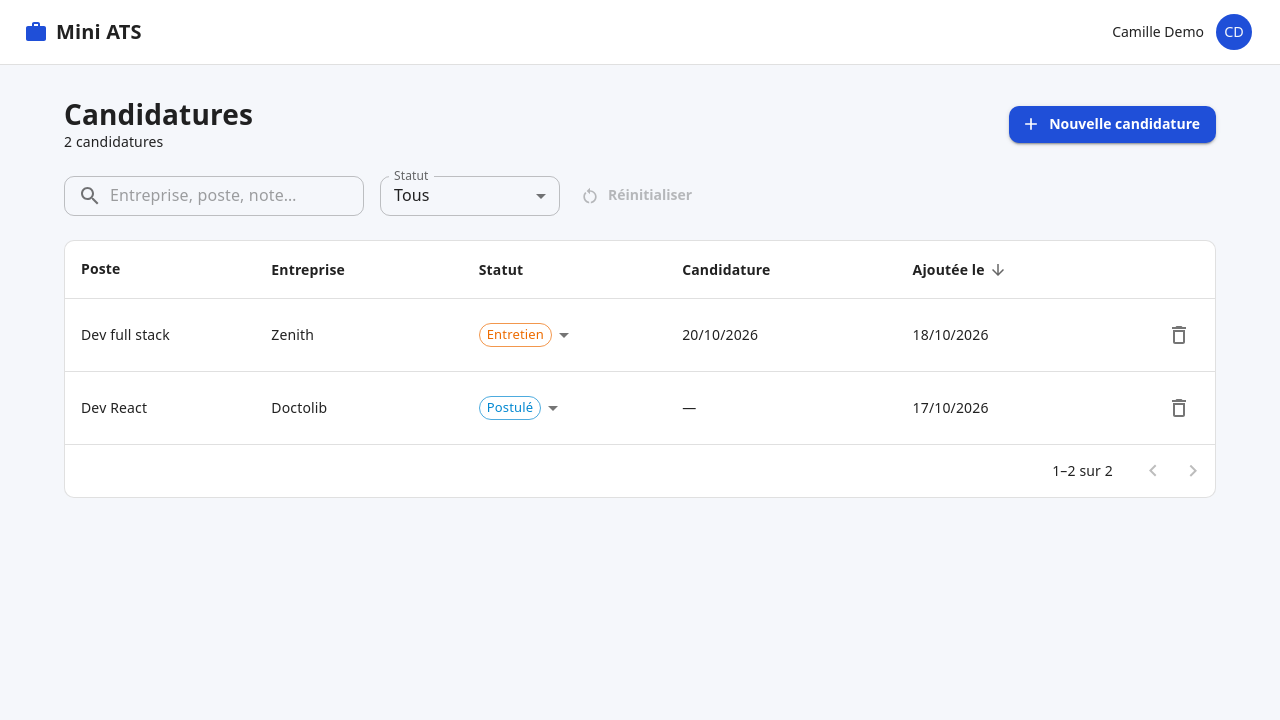
it: parcours applicatif › réinitialise recherche et filtres
Check: the button "Réinitialiser" is disabled, box [576, 177, 700, 214]
Type "Zenith" into the field named "Rechercher" at (237, 196), box [110, 176, 364, 216]
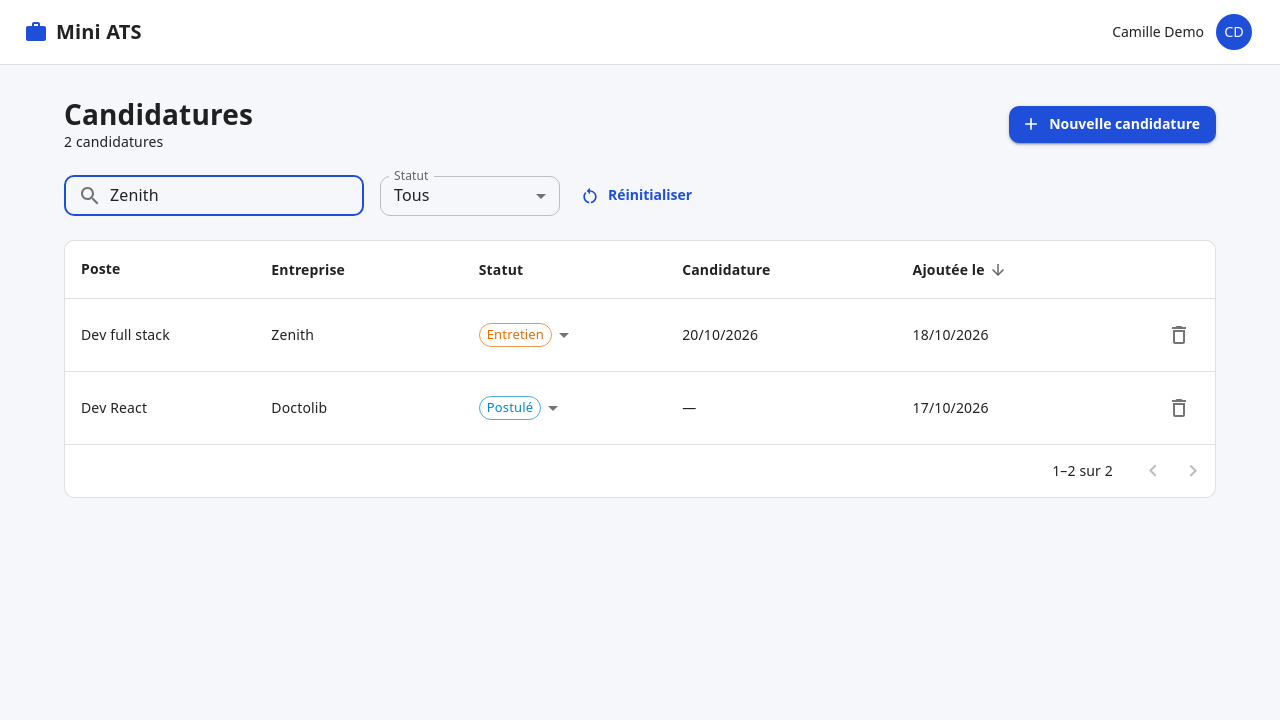
Click the dropdown named "Statut" at (412, 195), box [394, 184, 430, 206]
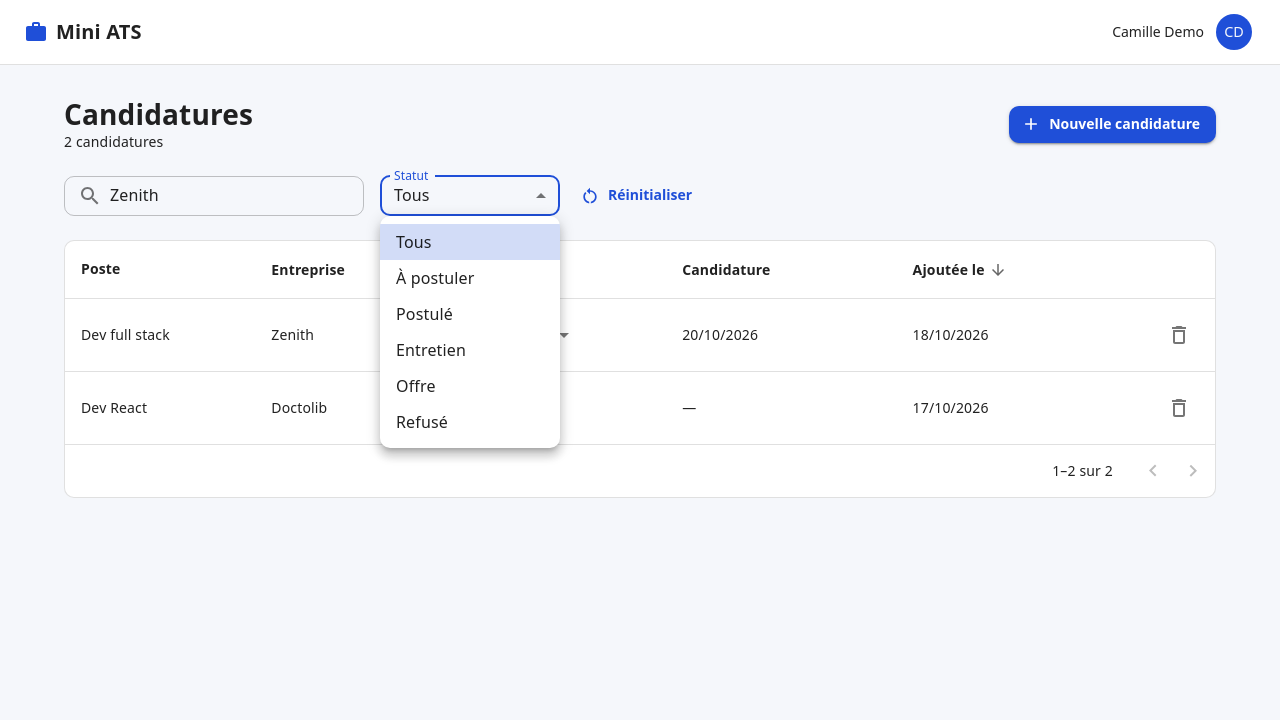
Click the option "Offre" at (416, 386), box [396, 375, 436, 397]
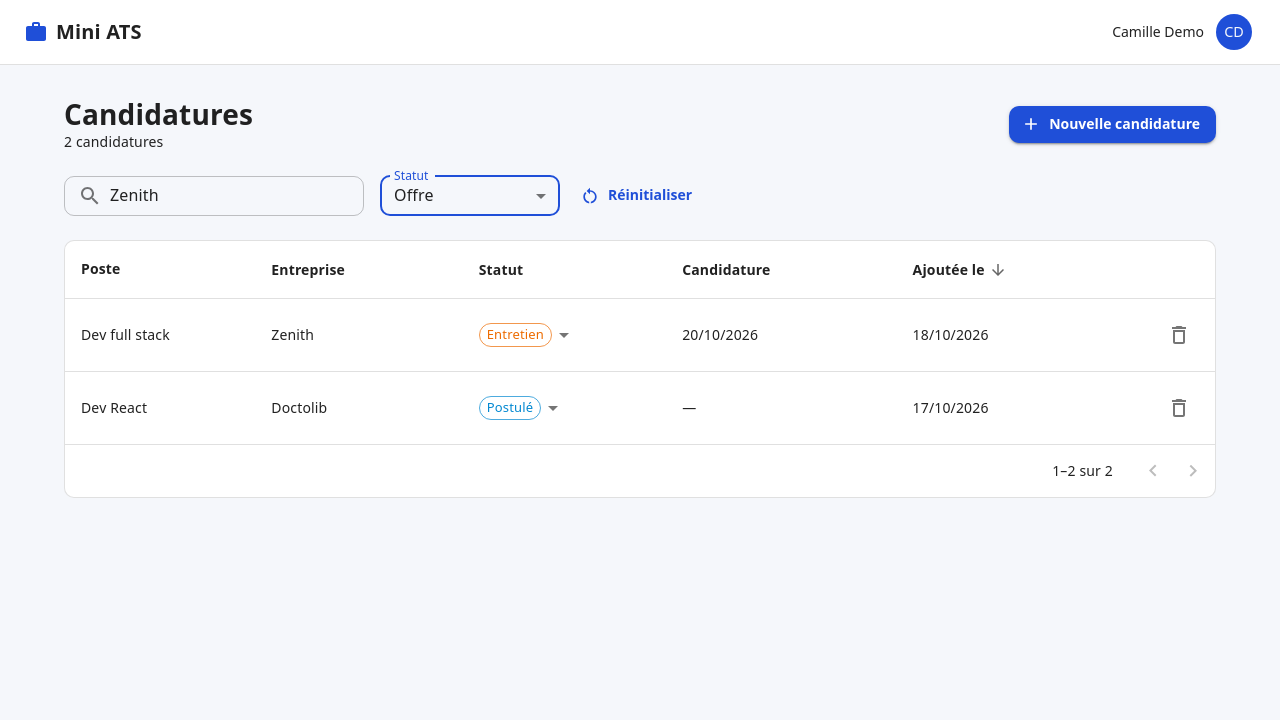
Click the button "Réinitialiser" at (638, 196), box [576, 177, 700, 214]
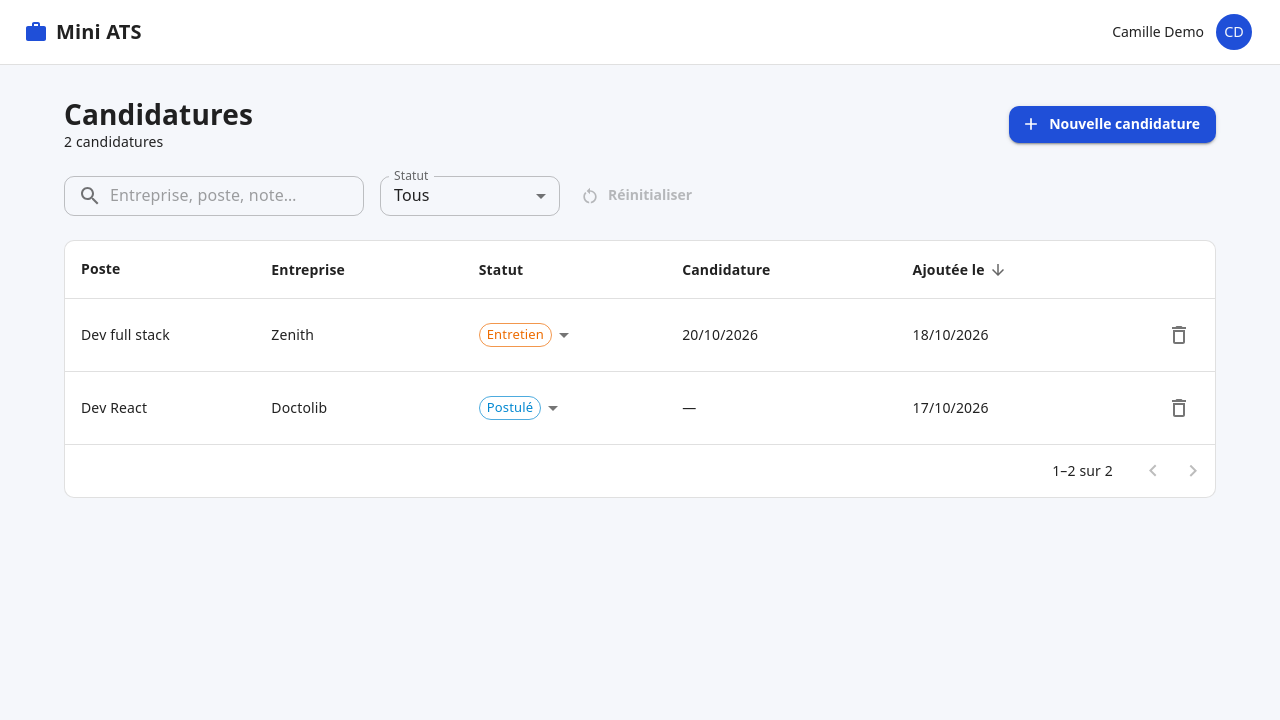
Check: the field named "Rechercher" is empty, box [110, 176, 364, 216]
Check: the dropdown named "Statut" reads "Tous", box [394, 184, 430, 206]
Check: the button "Réinitialiser" is disabled, box [576, 177, 700, 214]
